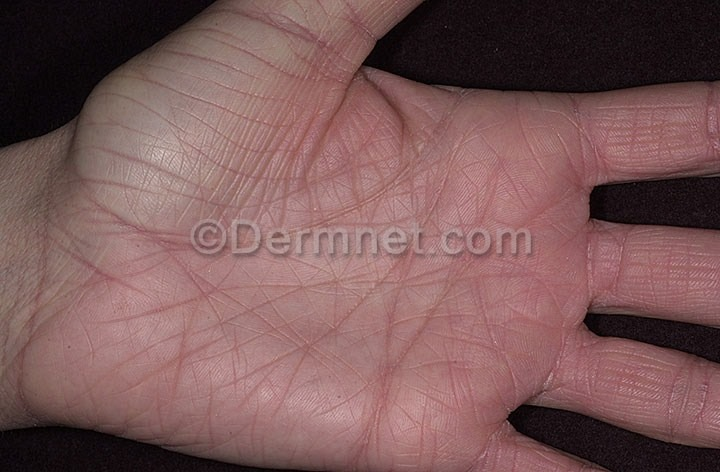Eczema: (505, 84, 720, 418), (441, 409, 574, 472)
